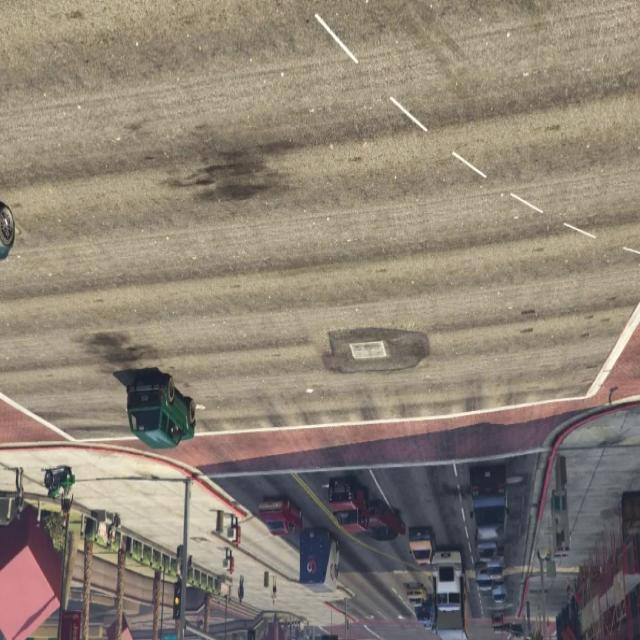Yellow-Signal: (170, 568, 183, 628), (243, 618, 258, 640), (318, 628, 341, 640)
